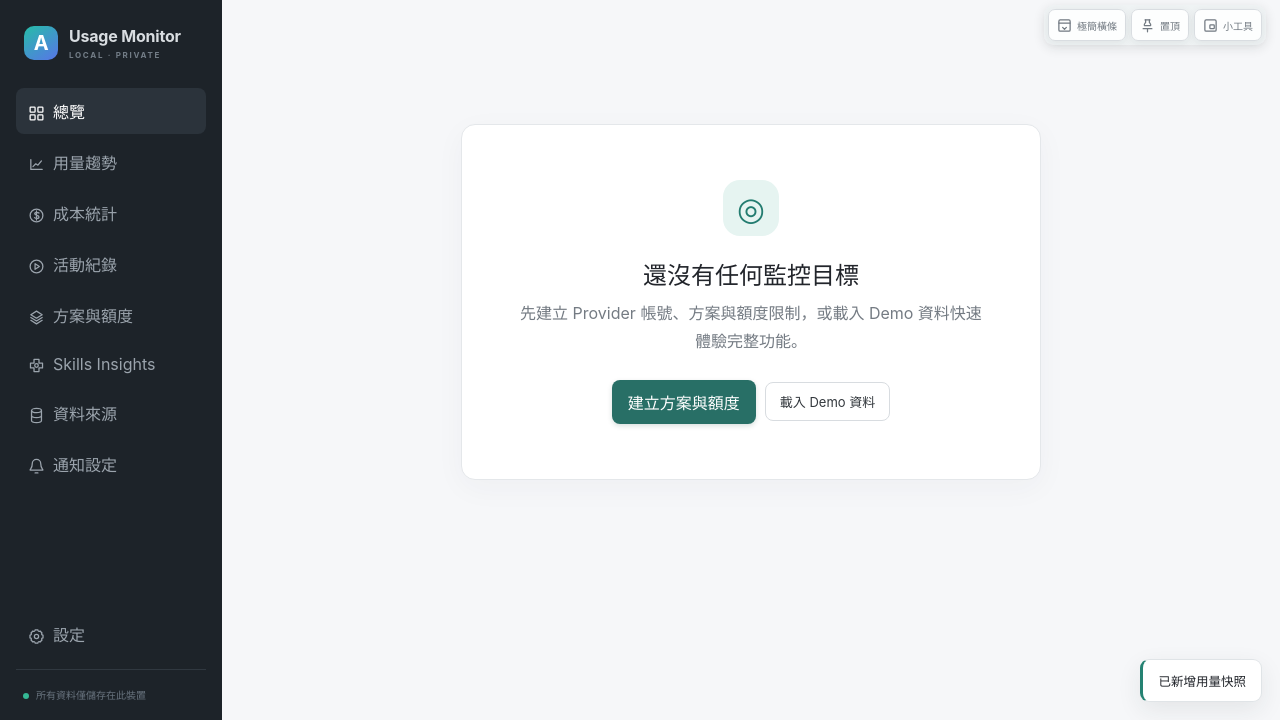
Scenario: Demo mode › loads demo data with a visible banner and clears it
Click the button "載入 Demo 資料". click: point(828, 402)
box: [765,382,890,421]
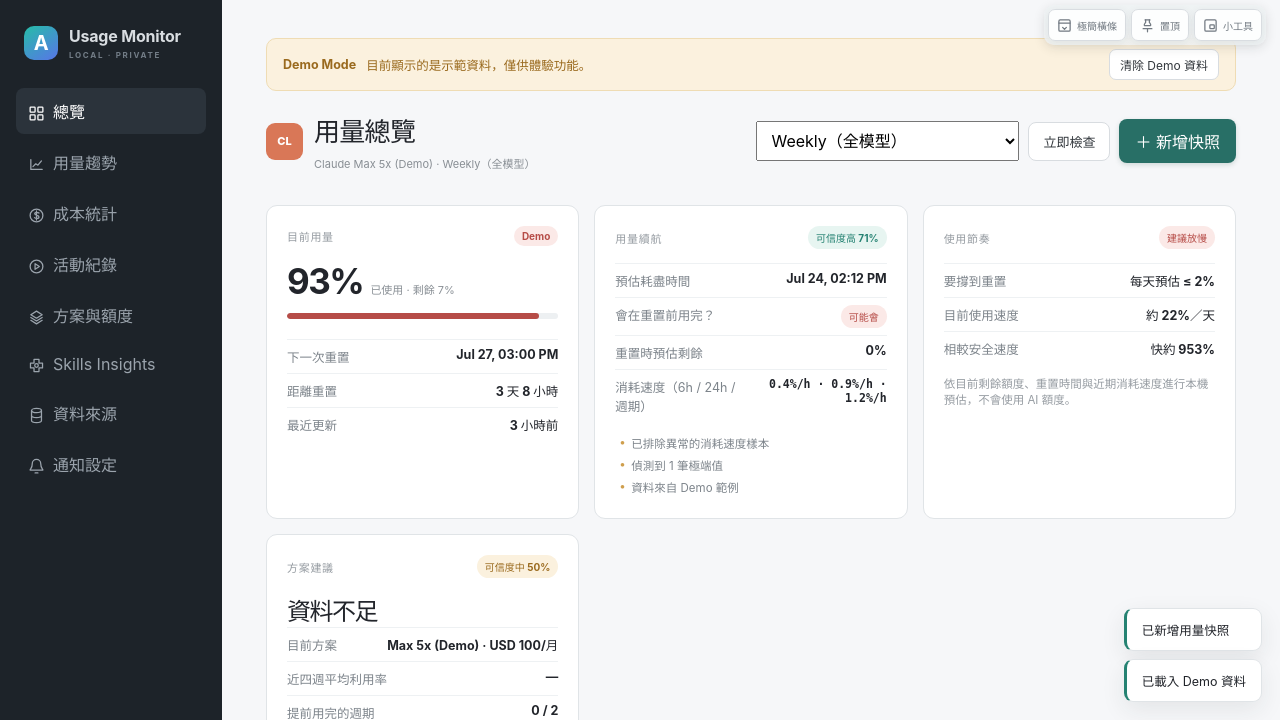
Expected: the text "Demo Mode" is shown, [283,57,356,72]
Click the button "清除 Demo 資料". click: point(1164, 64)
box: [1109,49,1219,80]
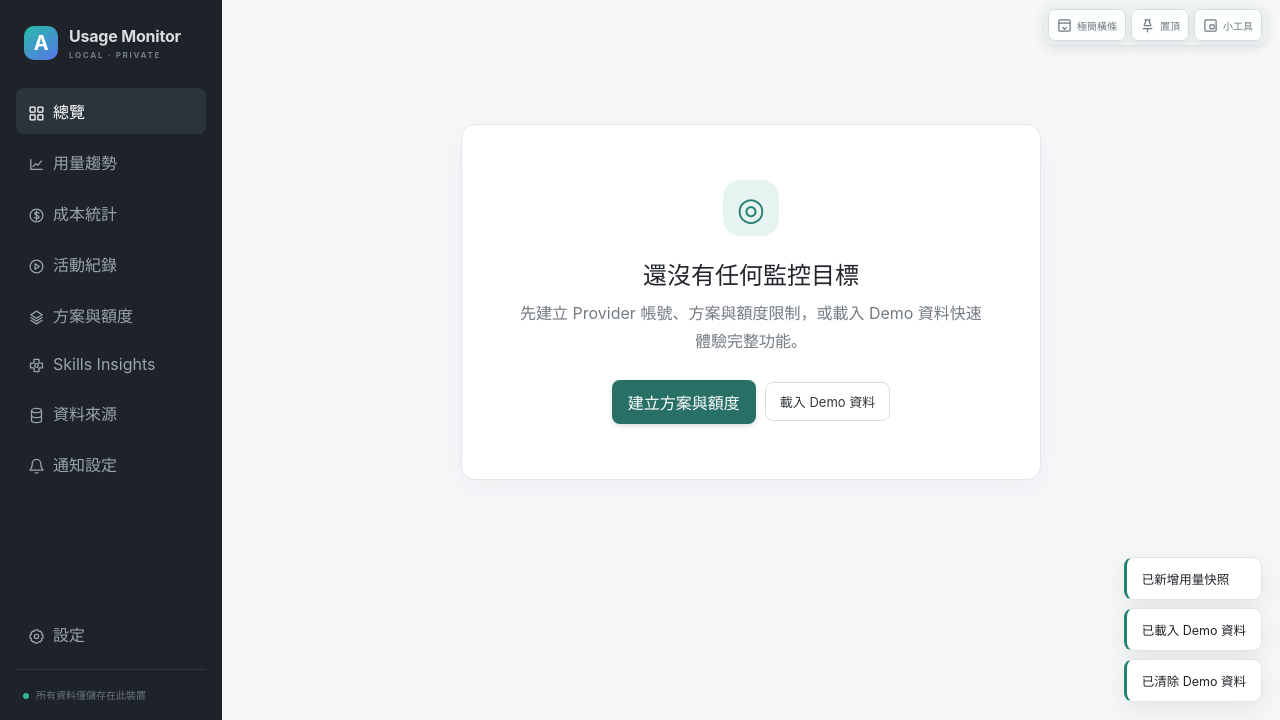
Expected: the text "Demo Mode" is gone
Expected: the heading "還沒有任何監控目標" is shown, [643,261,859,290]
